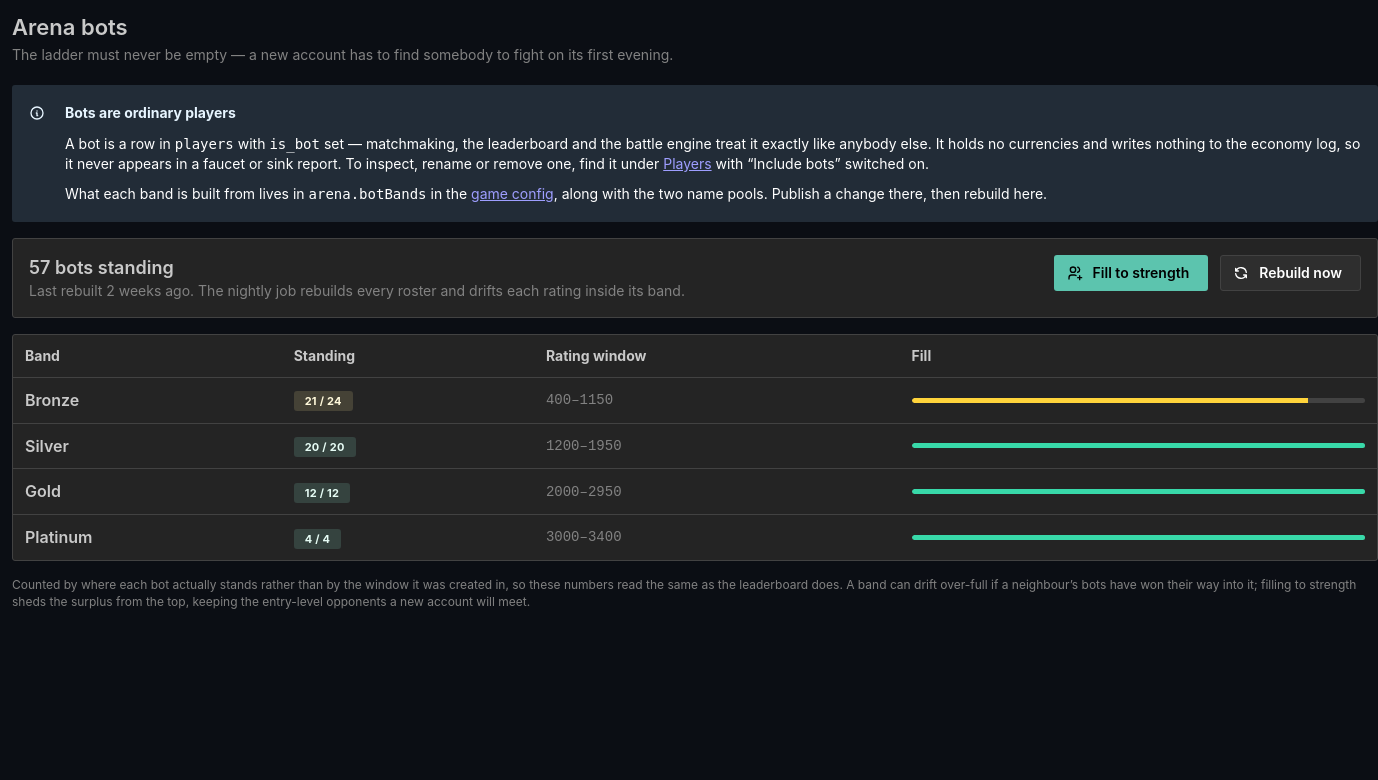
Scenario: the bot ladder page › fills the ladder through the seed endpoint and reports what it did
Click the button "Fill to strength": coordinates (1131, 273) left=1054, top=255, right=1208, bottom=291
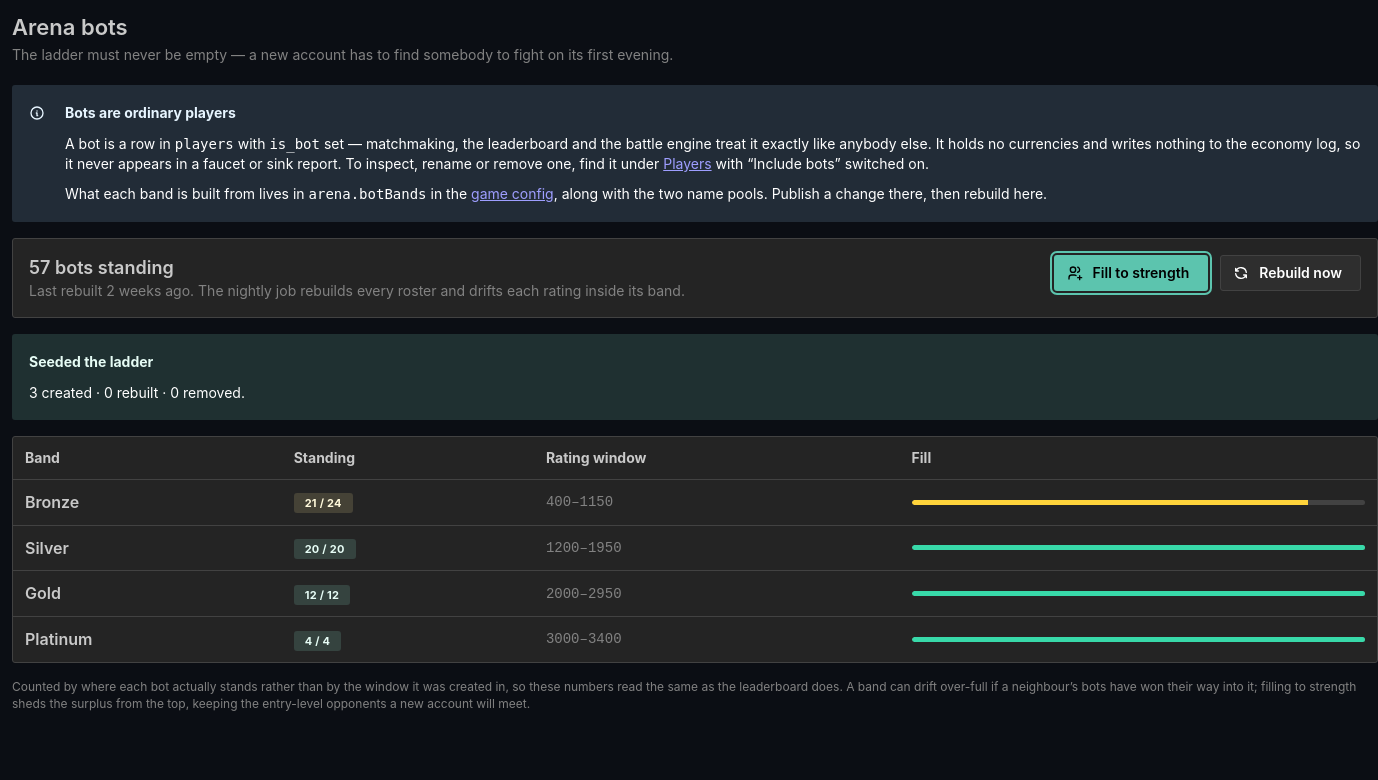
Now the text "3 created · 0 rebuilt · 0 removed." is shown, box left=29, top=384, right=245, bottom=401
